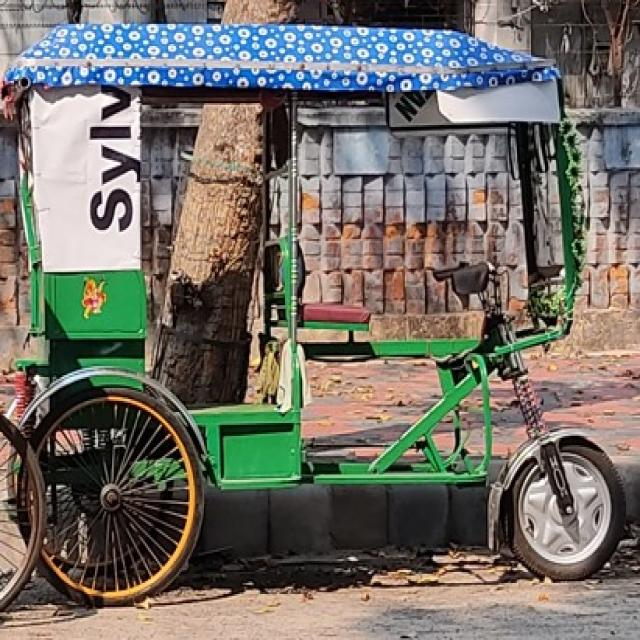rickshaw: (10, 20, 628, 594)
